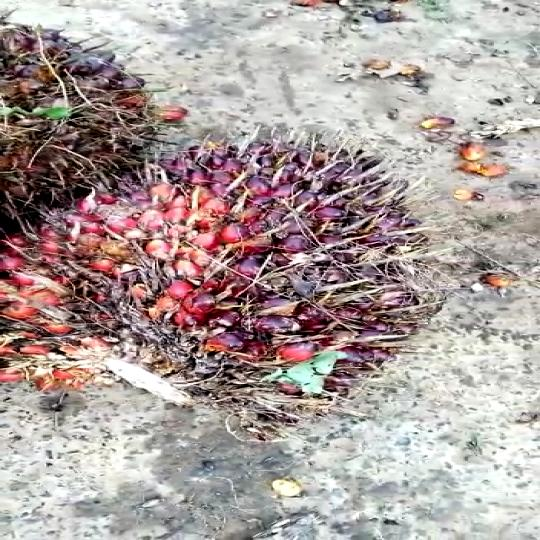masak: (26, 136, 482, 426)
